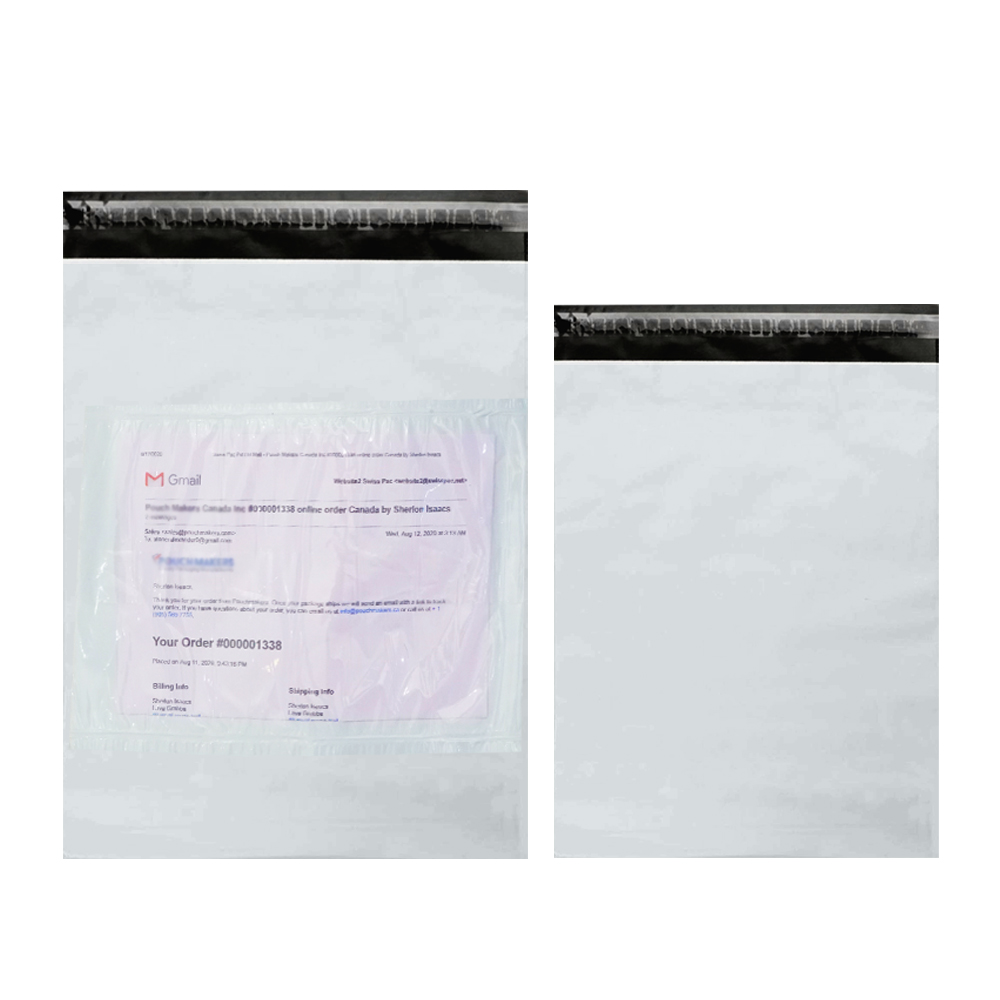塑料袋: (62, 190, 529, 864), (555, 306, 939, 864)
